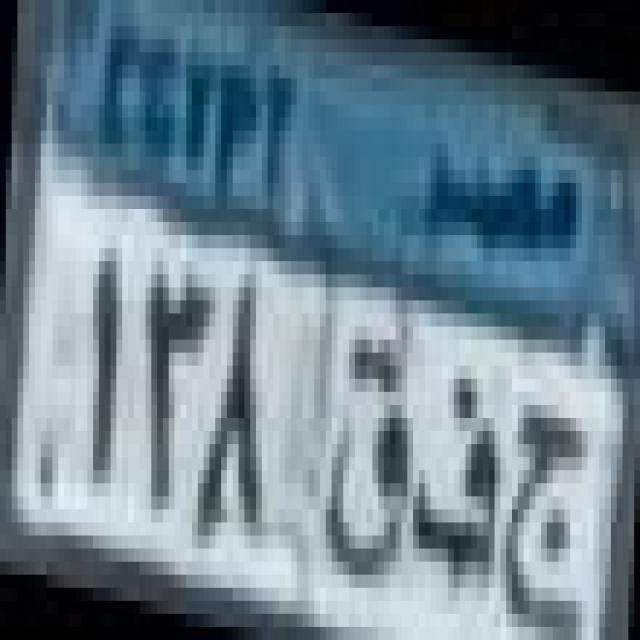1: (78, 232, 134, 494)
3: (138, 242, 216, 518)
8: (190, 258, 282, 558)
F: (408, 348, 508, 599)
Taa: (320, 322, 417, 605)
geem: (497, 394, 597, 640)
